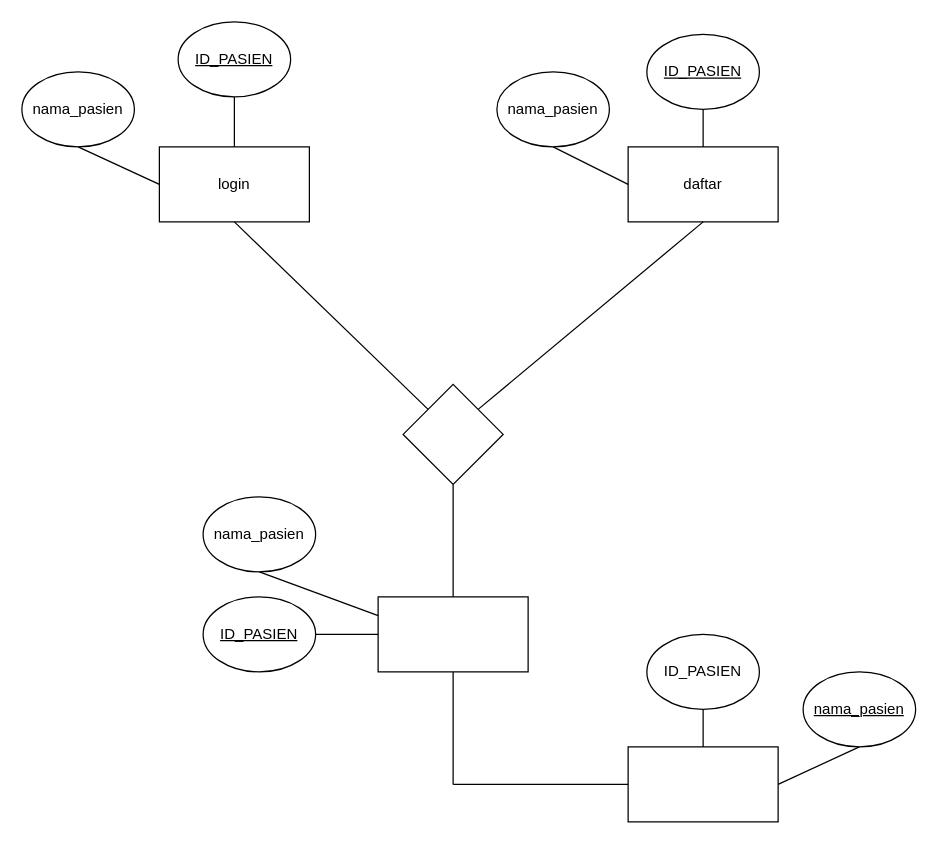
Some shapes in this 938 by 844 pixel diagram are drawn without their labels. Each missing label, with the box of its shape:
hasil: (627, 746, 778, 822)
konsultasi: (377, 596, 528, 672)
masuk: (402, 383, 503, 484)
